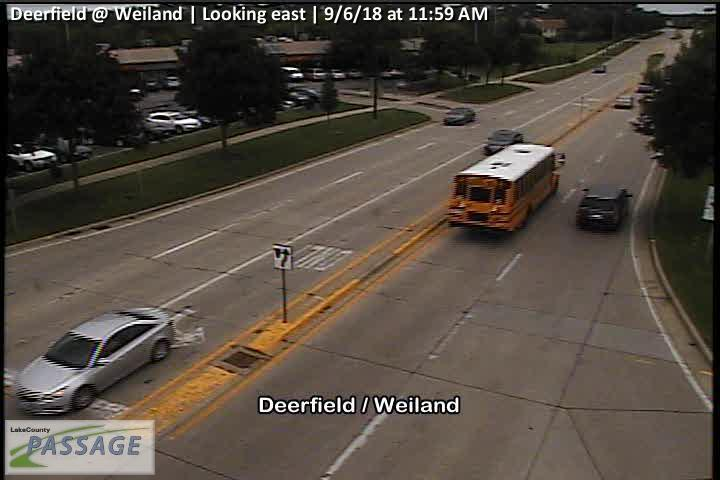Bus: (447, 142, 564, 230)
SUV: (578, 186, 633, 227), (483, 130, 525, 157), (445, 105, 475, 126)
Sedan: (15, 305, 175, 415), (614, 95, 632, 108)
